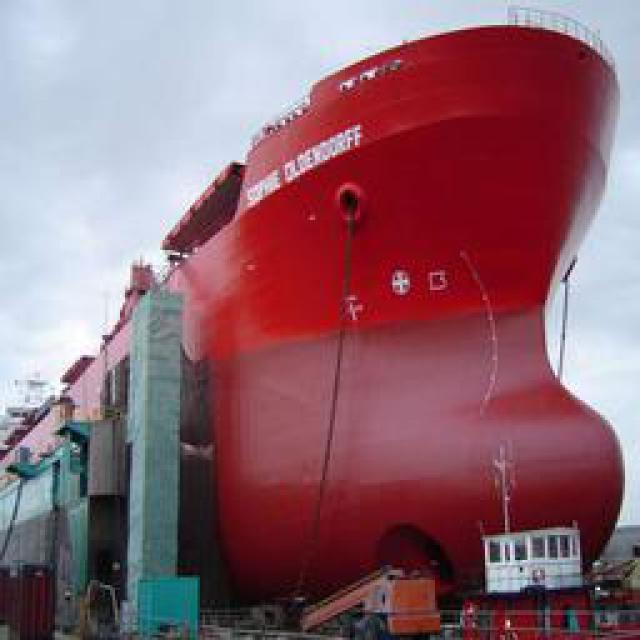Ship: (1, 6, 640, 607)
